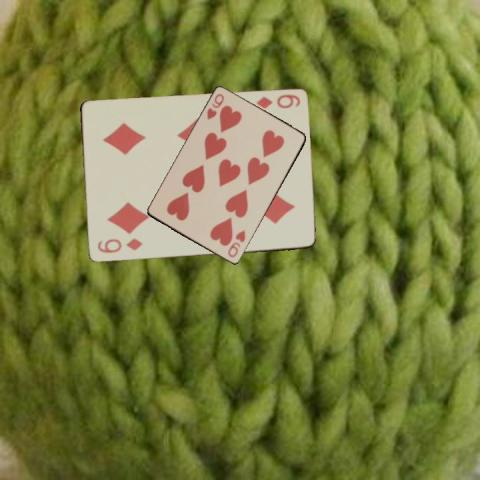6d: (94, 235, 143, 255), (253, 91, 302, 111)
9h: (224, 228, 246, 260), (204, 91, 225, 121)
